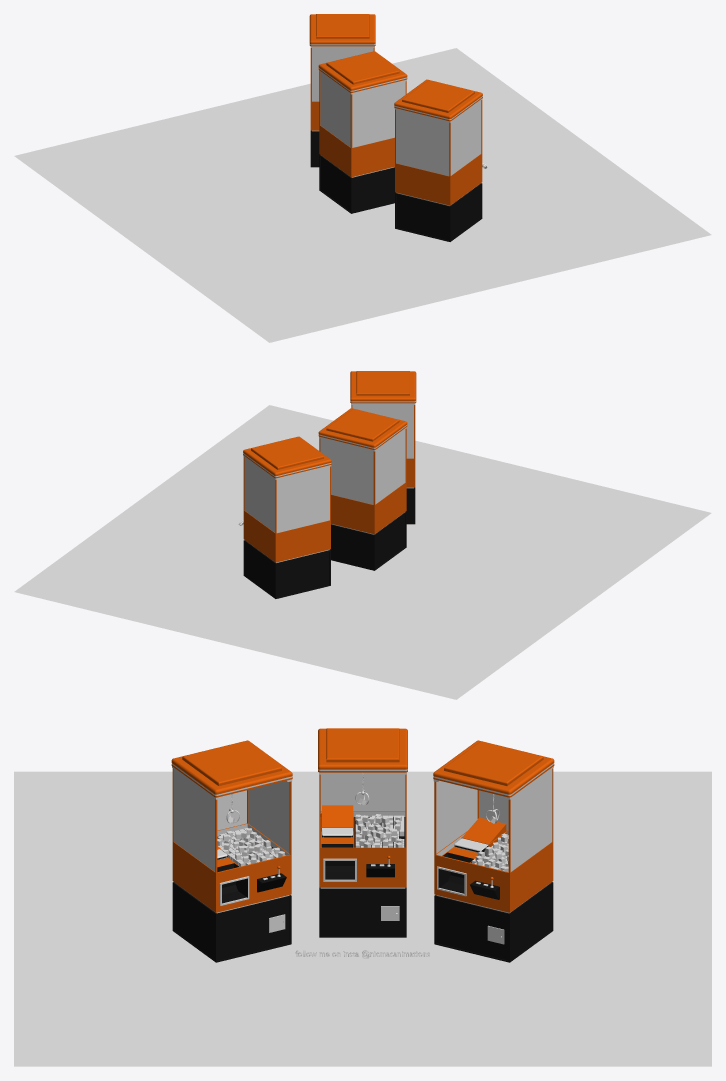
The model's file is Claw 1.fbx.
3 renders of one model, top to bottom at view 1: azimuth 30°, elevation 25°; view 2: azimuth 150°, elevation 25°; view 3: azimuth 270°, elevation 25°, orthographic. The views are drawn at different scales.
Visible parts, largest first — view 1: Plane, Cube.141, Cube, Cube.001, Cube.140, Cube.076, Cube.077; view 2: Plane, Cube.077, Cube, Cube.001, Cube.076, Cube.140, Cube.141; view 3: Plane, Cube.077, Cube.141, Cube, Cube.076, Cube.140, Cube.001, Text, Cube.017, Cube.190.
Boxes of the visible parts, left/top/right/bottom form: Plane: left=14, top=48, right=711, bottom=342; Cube.141: left=395, top=100, right=482, bottom=241; Cube: left=319, top=71, right=406, bottom=213; Cube.001: left=318, top=51, right=407, bottom=92; Cube.140: left=394, top=79, right=482, bottom=121; Cube.076: left=309, top=14, right=375, bottom=46; Cube.077: left=310, top=46, right=374, bottom=167; Plane: left=14, top=405, right=711, bottom=699; Cube.077: left=243, top=457, right=330, bottom=598; Cube: left=319, top=428, right=406, bottom=570; Cube.001: left=318, top=408, right=407, bottom=449; Cube.076: left=243, top=436, right=331, bottom=478; Cube.140: left=350, top=371, right=416, bottom=403; Cube.141: left=351, top=403, right=415, bottom=524; Plane: left=14, top=771, right=711, bottom=1066; Cube.077: left=434, top=768, right=553, bottom=962; Cube.141: left=172, top=768, right=291, bottom=962; Cube: left=319, top=772, right=406, bottom=937; Cube.076: left=433, top=740, right=554, bottom=797; Cube.140: left=171, top=740, right=292, bottom=797; Cube.001: left=318, top=728, right=407, bottom=772; Text: left=295, top=950, right=429, bottom=958; Cube.017: left=355, top=815, right=404, bottom=847; Cube.190: left=218, top=828, right=285, bottom=866.
Size of the model in its own units: 1600 by 446 by 1600.
